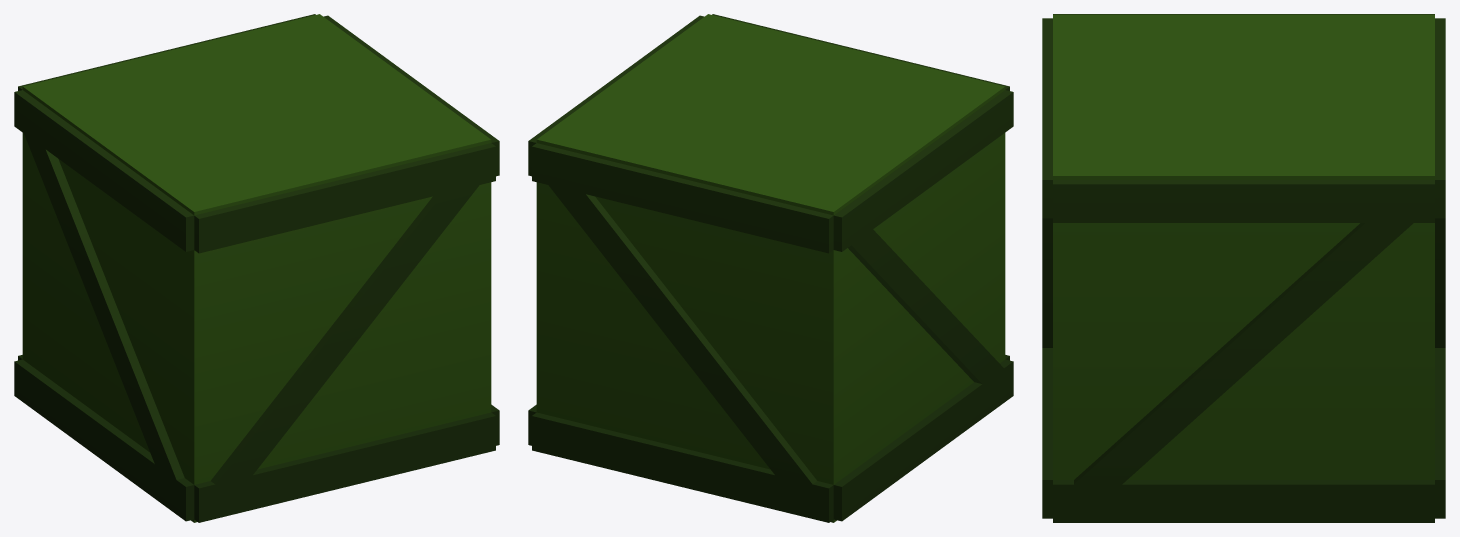
Rendered from crate_green.glb.
The picture shows the model from 3 angles, left to right: view 1: azimuth 30°, elevation 25°; view 2: azimuth 150°, elevation 25°; view 3: azimuth 270°, elevation 25°; orthographic projection. The views are drawn at different scales.
Parts seen in each view (by area): view 1: crate_green_root_body; view 2: crate_green_root_body; view 3: crate_green_root_body.
Boxes of the visible parts, left/top/right/bottom form: crate_green_root_body: left=14, top=14, right=499, bottom=522; crate_green_root_body: left=528, top=14, right=1013, bottom=522; crate_green_root_body: left=1042, top=14, right=1445, bottom=522.
Bounding box in the file's own units: 0.95 × 0.9 × 0.95.
